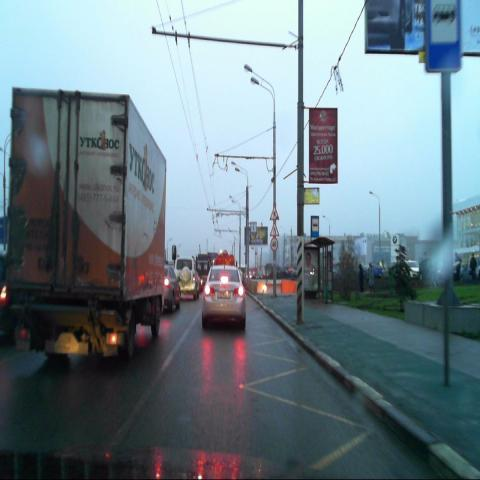5_16: (426, 0, 462, 73)
